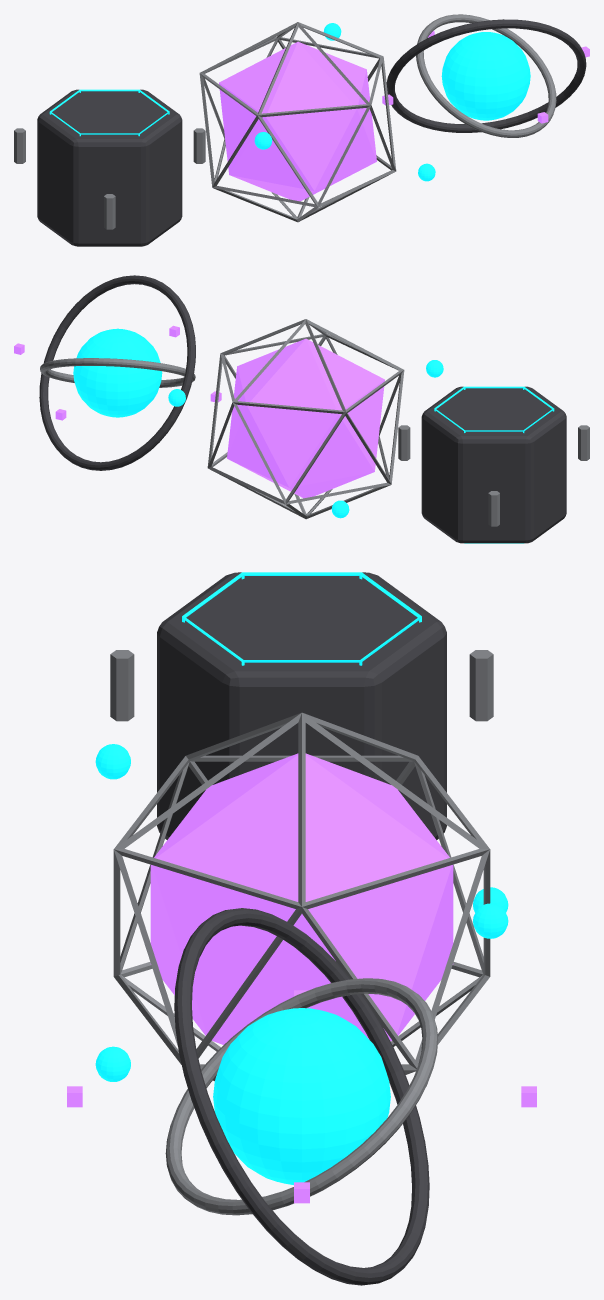
File: tech-elements.glb
The picture shows the model from 3 angles, top to bottom: view 1: azimuth 30°, elevation 25°; view 2: azimuth 150°, elevation 25°; view 3: azimuth 270°, elevation 25°; orthographic projection. The views are drawn at different scales.
Visible parts, largest first — view 1: Tech_HexDataNode_Body, Tech_CryptoKernel, Tech_CryptoCage, Tech_GyroCore, Tech_GyroRing_Outer, Tech_GyroRing_Inner, Tech_HexDataNode_Circuits, Tech_HexPin_1, Tech_HexPin_2, Tech_HexPin_3; view 2: Tech_HexDataNode_Body, Tech_CryptoKernel, Tech_CryptoCage, Tech_GyroCore, Tech_GyroRing_Outer, Tech_GyroRing_Inner, Tech_HexDataNode_Circuits, Tech_HexPin_1, Tech_HexPin_2, Tech_HexPin_3; view 3: Tech_CryptoKernel, Tech_HexDataNode_Body, Tech_CryptoCage, Tech_GyroCore, Tech_GyroRing_Outer, Tech_GyroRing_Inner, Tech_HexDataNode_Circuits, Tech_HexPin_2, Tech_HexPin_3, Tech_CryptoNode_1, Tech_CryptoNode_3, Tech_CryptoNode_4.
Part boxes in pixels (x1,y1,x2,y2): Tech_HexDataNode_Body: [37, 89, 182, 246]; Tech_CryptoKernel: [219, 41, 376, 201]; Tech_CryptoCage: [199, 22, 396, 222]; Tech_GyroCore: [441, 32, 530, 120]; Tech_GyroRing_Outer: [386, 19, 586, 132]; Tech_GyroRing_Inner: [416, 14, 556, 137]; Tech_HexDataNode_Circuits: [49, 89, 169, 136]; Tech_HexPin_1: [193, 128, 205, 163]; Tech_HexPin_2: [14, 128, 25, 163]; Tech_HexPin_3: [104, 194, 115, 229]; Tech_HexDataNode_Body: [421, 386, 566, 543]; Tech_CryptoKernel: [227, 338, 384, 498]; Tech_CryptoCage: [207, 319, 404, 519]; Tech_GyroCore: [73, 328, 162, 417]; Tech_GyroRing_Outer: [39, 275, 195, 470]; Tech_GyroRing_Inner: [40, 358, 195, 387]; Tech_HexDataNode_Circuits: [434, 386, 554, 543]; Tech_HexPin_1: [398, 425, 410, 460]; Tech_HexPin_2: [488, 491, 499, 526]; Tech_HexPin_3: [578, 425, 589, 460]; Tech_CryptoKernel: [150, 753, 453, 1044]; Tech_HexDataNode_Body: [157, 572, 446, 839]; Tech_CryptoCage: [113, 712, 490, 1080]; Tech_GyroCore: [213, 1008, 390, 1184]; Tech_GyroRing_Outer: [174, 908, 429, 1285]; Tech_GyroRing_Inner: [165, 978, 438, 1215]; Tech_HexDataNode_Circuits: [182, 572, 421, 665]; Tech_HexPin_2: [469, 650, 493, 721]; Tech_HexPin_3: [110, 650, 134, 721]; Tech_CryptoNode_1: [473, 903, 508, 938]; Tech_CryptoNode_3: [95, 744, 130, 779]; Tech_CryptoNode_4: [95, 1046, 130, 1081].
Bounding box in the file's own units: 6.24 × 2.24 × 2.38.
